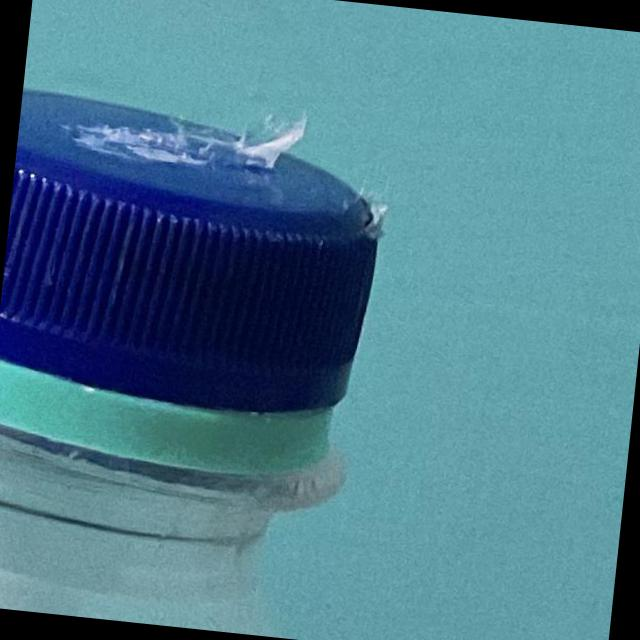Good-cap-Df0S: (0, 91, 424, 518)
